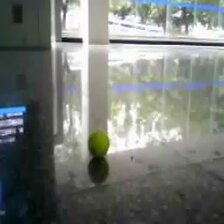tennis: (88, 129, 110, 156)
